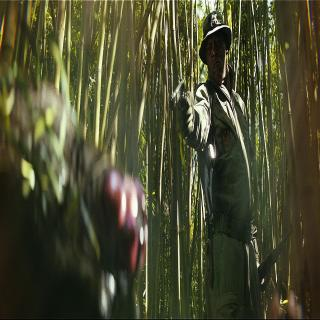gun: (170, 72, 194, 144)
